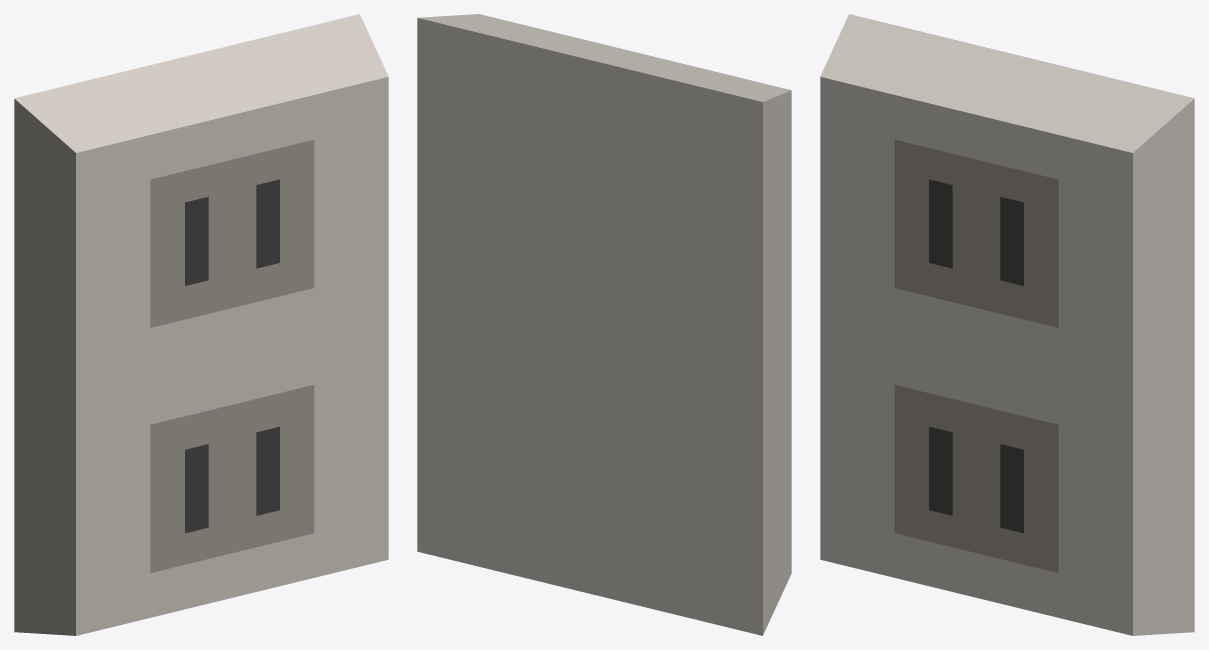
File: SM_Prop_PowerPlug_01.fbx
The picture shows the model from 3 angles, left to right: view 1: azimuth 30°, elevation 25°; view 2: azimuth 150°, elevation 25°; view 3: azimuth 330°, elevation 25°; orthographic projection.
Visible parts, largest first — view 1: SM_Prop_PowerPlug_01; view 2: SM_Prop_PowerPlug_01; view 3: SM_Prop_PowerPlug_01.
Boxes of the visible parts, left/top/right/bottom form: SM_Prop_PowerPlug_01: left=14, top=14, right=388, bottom=635; SM_Prop_PowerPlug_01: left=417, top=14, right=791, bottom=635; SM_Prop_PowerPlug_01: left=820, top=14, right=1194, bottom=635.
Size of the model in its own units: 12.07 by 17.81 by 2.75.
